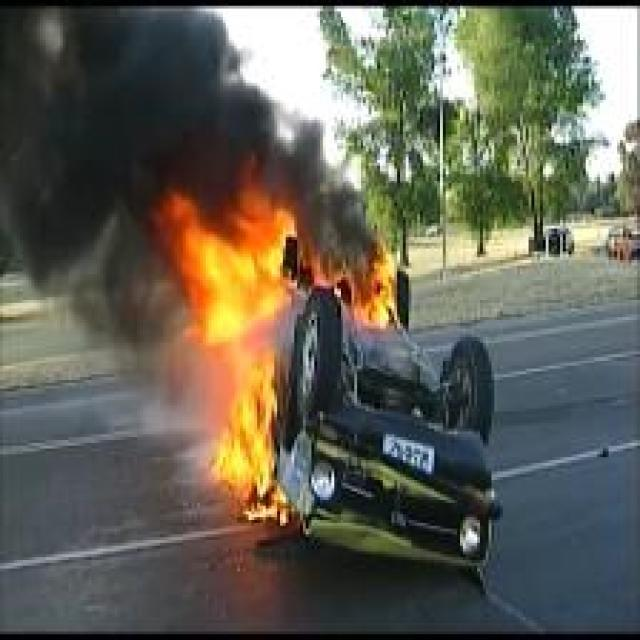Fire: (166, 154, 306, 526), (348, 238, 401, 330)
